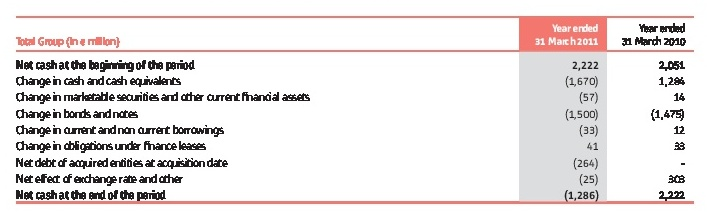table: (0, 0, 707, 220)
